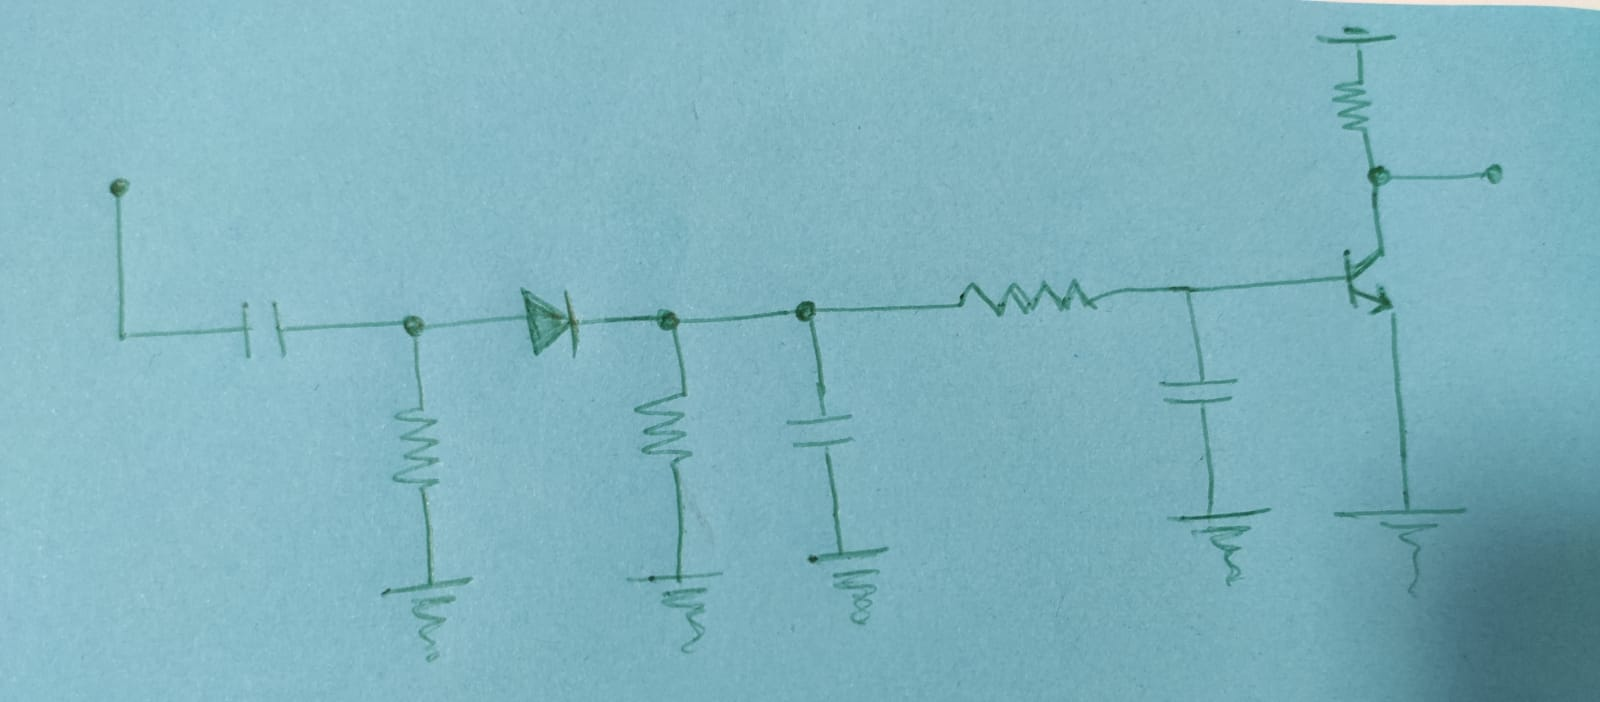capacitor.unpolarized: (232, 300, 298, 356), (1157, 369, 1238, 412), (787, 411, 854, 452)
diode: (515, 287, 584, 358)
gnd: (1331, 495, 1472, 606), (1163, 501, 1276, 592), (376, 568, 477, 665), (622, 565, 729, 657), (802, 537, 896, 629)
junction: (650, 307, 690, 339), (395, 310, 432, 343), (1361, 162, 1399, 193), (791, 298, 824, 328), (107, 321, 142, 350), (1174, 280, 1206, 304)
resistor: (953, 277, 1101, 316), (392, 402, 444, 490), (634, 387, 694, 461), (1334, 74, 1377, 139)
terminal: (101, 172, 134, 205), (1474, 162, 1509, 189)
transistor: (1334, 240, 1397, 319)
voltage.dc: (1317, 19, 1398, 51)
